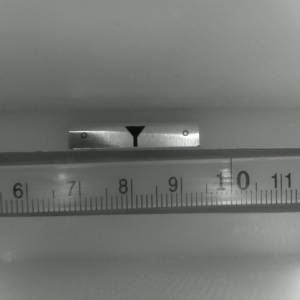0: (237, 170, 250, 190)
1: (216, 171, 225, 191), (274, 173, 280, 189)
6: (12, 183, 23, 199)
7: (66, 180, 76, 196)
8: (117, 178, 127, 194)
9: (167, 176, 176, 192)
finger: (124, 126, 145, 147)
